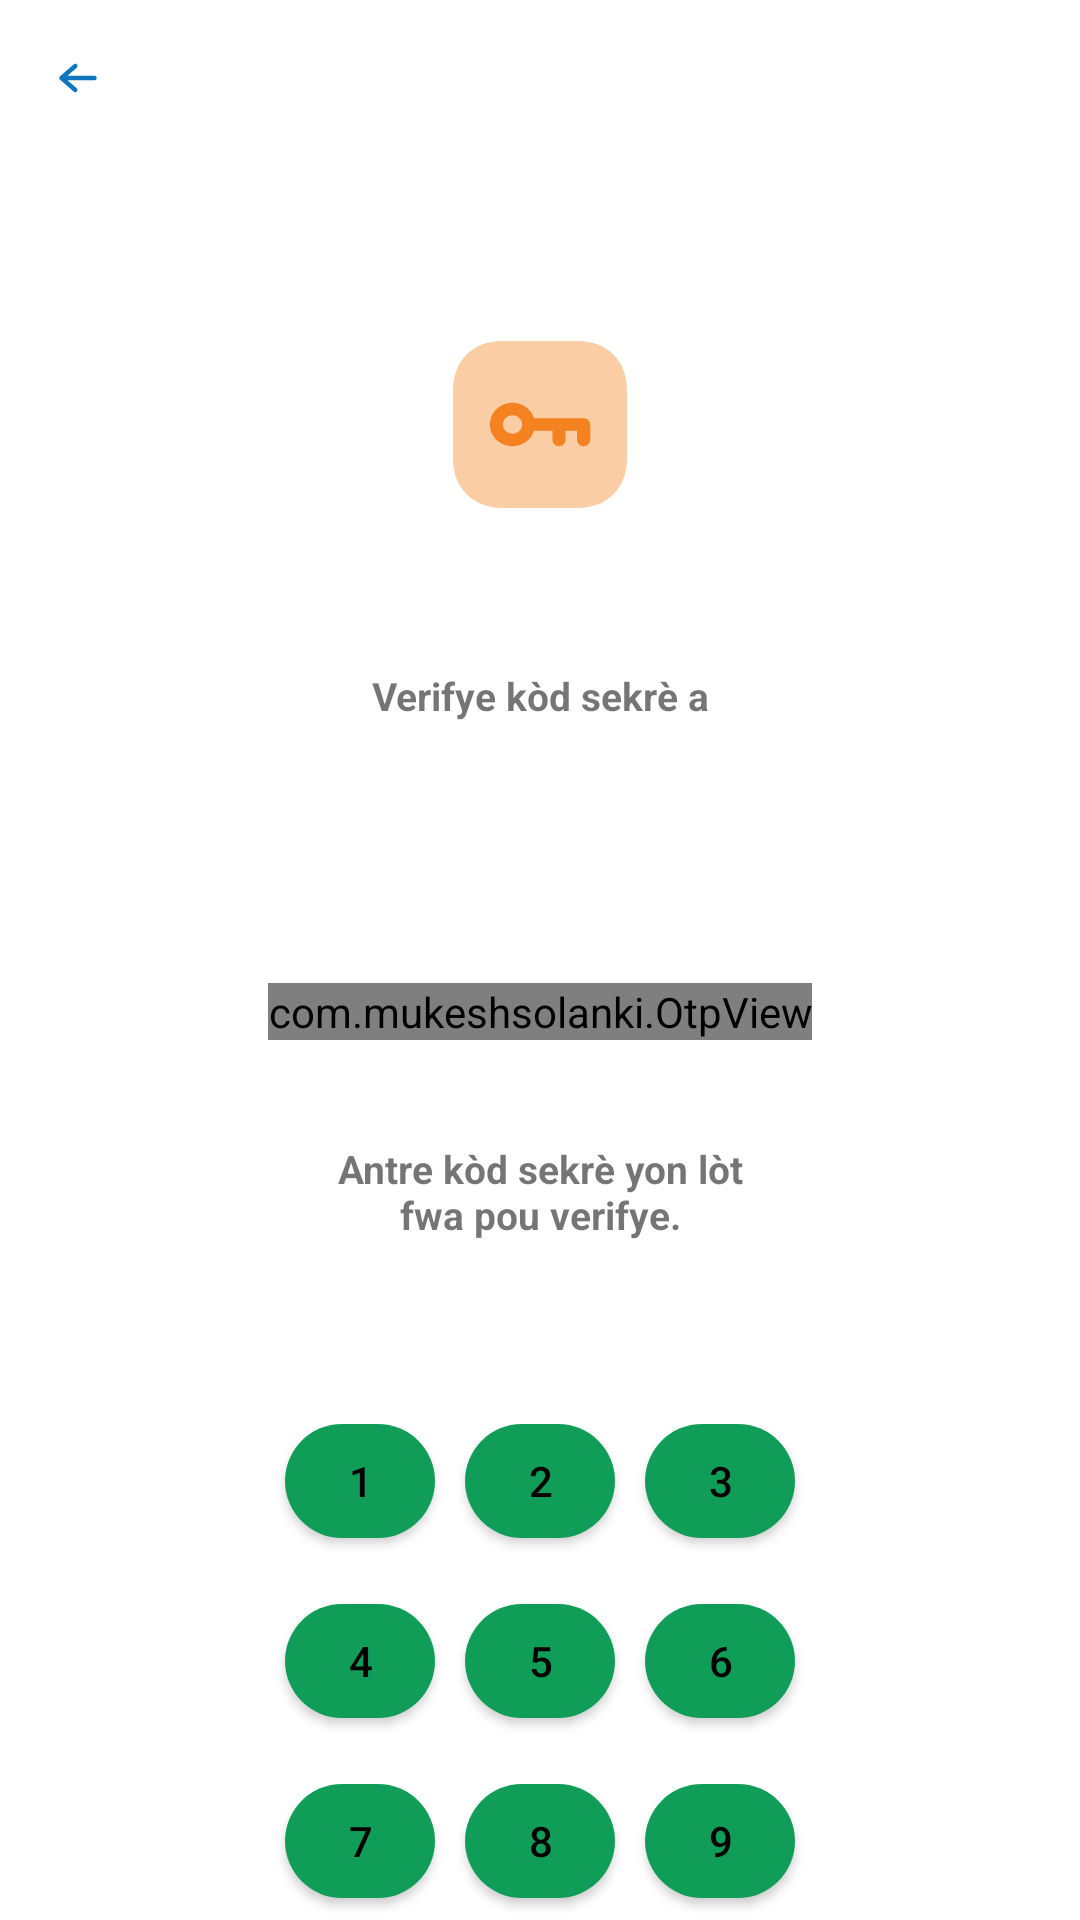

Screen size 1080×1920. Icon name, then its box in pixels as (x1, y1, x2, y2):
arrow back: (59, 63, 97, 93)
password: (453, 341, 627, 508)
